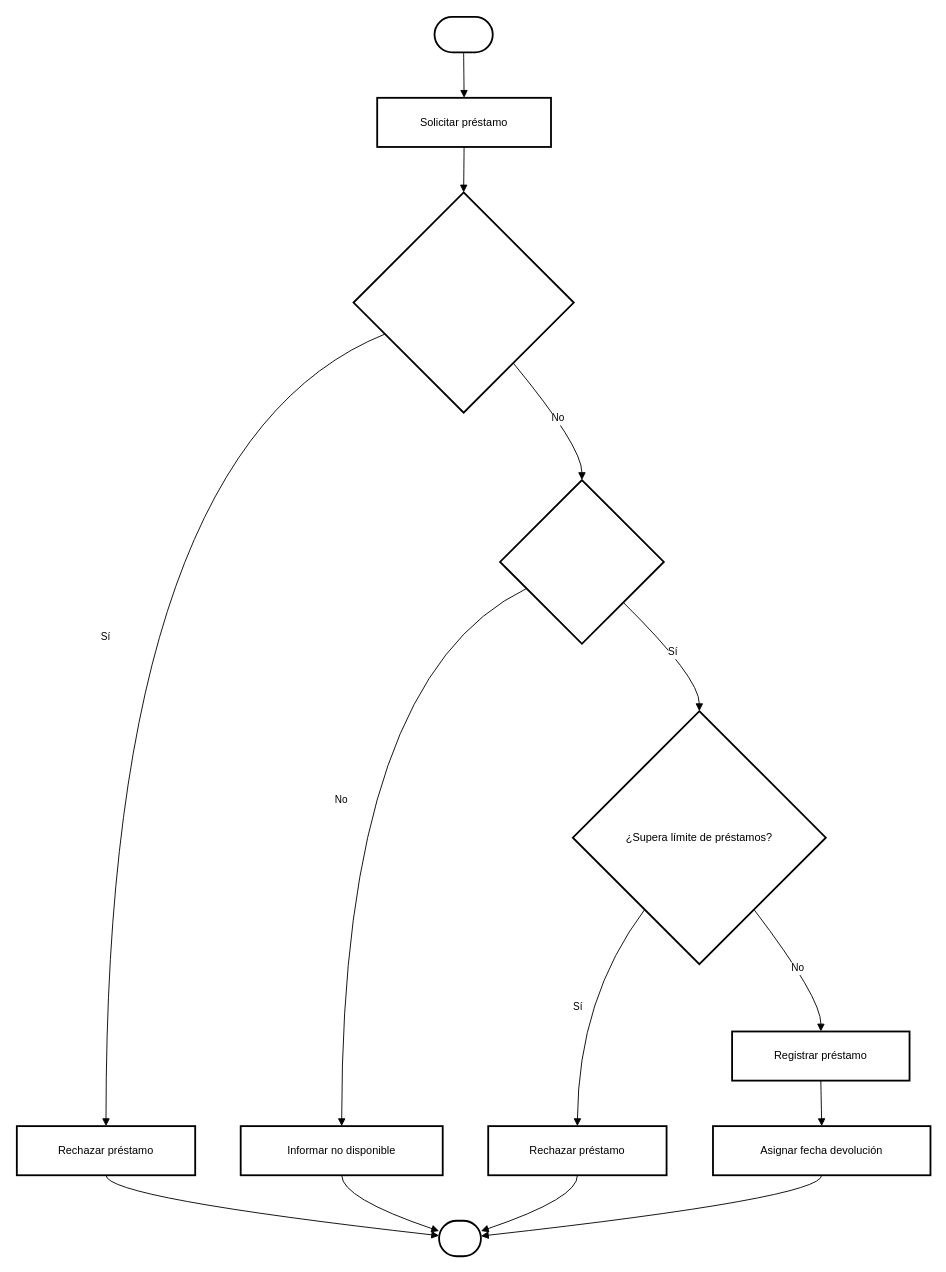
Some shapes in this 946 by 1272 pixel diagram are drawn without their labels. Here are the shapes that lost their labels. From the top down, the centre of each, then its label:
the point at 463,34: Inicio
the point at 463,302: ¿Tiene multas pendientes?
the point at 581,561: ¿Libro disponible?
the point at 459,1238: Fin
